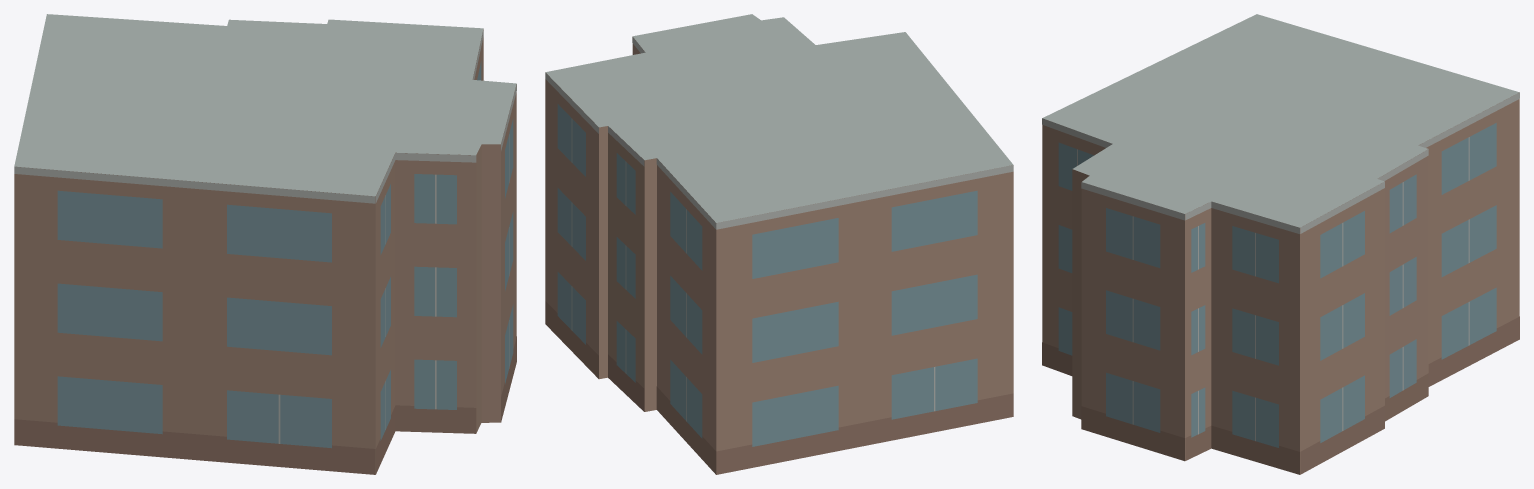
Rendered from survey-upis-32594934.glb.
3 renders of one model, left to right at view 1: azimuth 30°, elevation 25°; view 2: azimuth 150°, elevation 25°; view 3: azimuth 270°, elevation 25°, orthographic. The views are drawn at different scales.
Parts seen in each view (by area): view 1: survey-upis-32594934.tmp; view 2: survey-upis-32594934.tmp; view 3: survey-upis-32594934.tmp.
Boxes of the visible parts, box(x1,y1,x2,y2) form: survey-upis-32594934.tmp: box(14, 14, 516, 474); survey-upis-32594934.tmp: box(545, 14, 1013, 474); survey-upis-32594934.tmp: box(1042, 14, 1519, 474).
Size of the model in its own units: 17.17 by 9.25 by 16.21.
